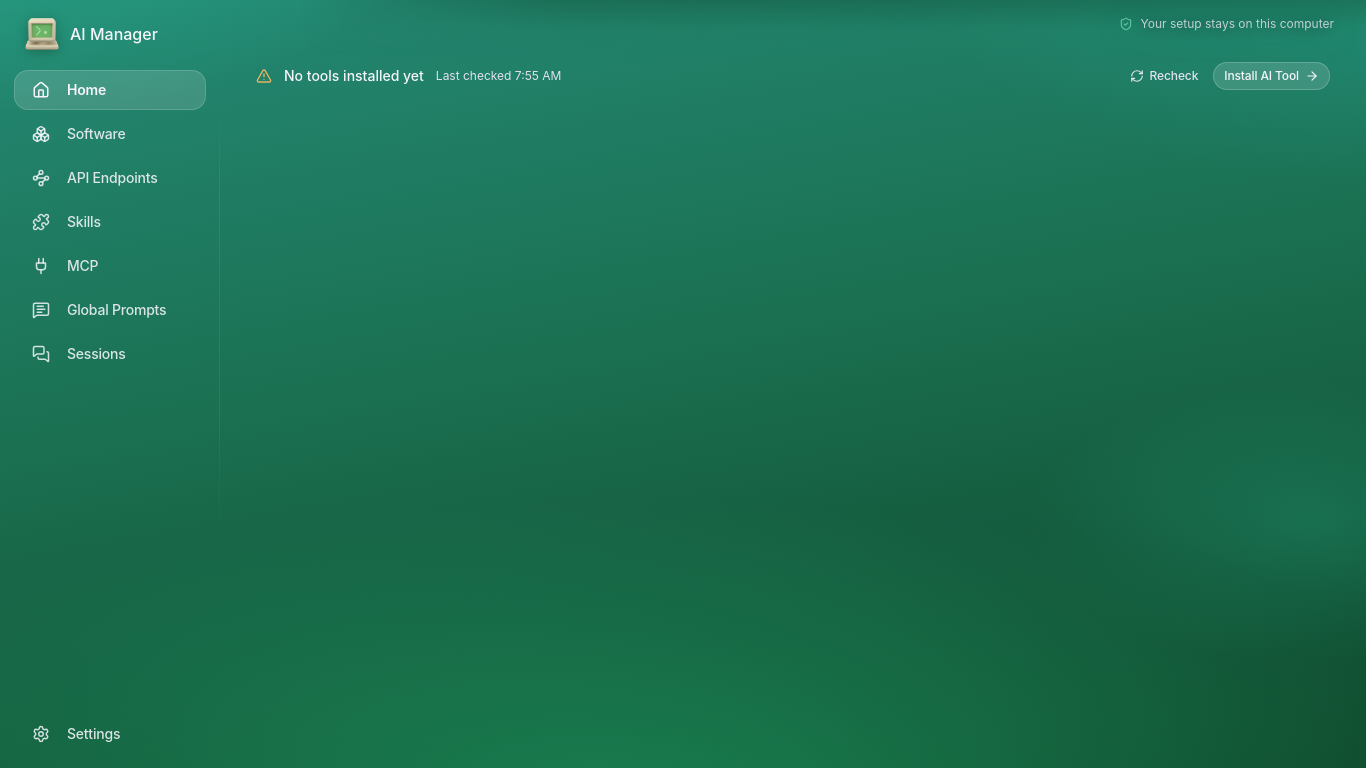
Scenario: AppShell › renders the real Extensions page instead of a placeholder
What coordinates should you click on to do the following:
click the button "Skills"
I would click on:
 (110, 222)
Its box is x1=14 y1=202 x2=206 y2=242.
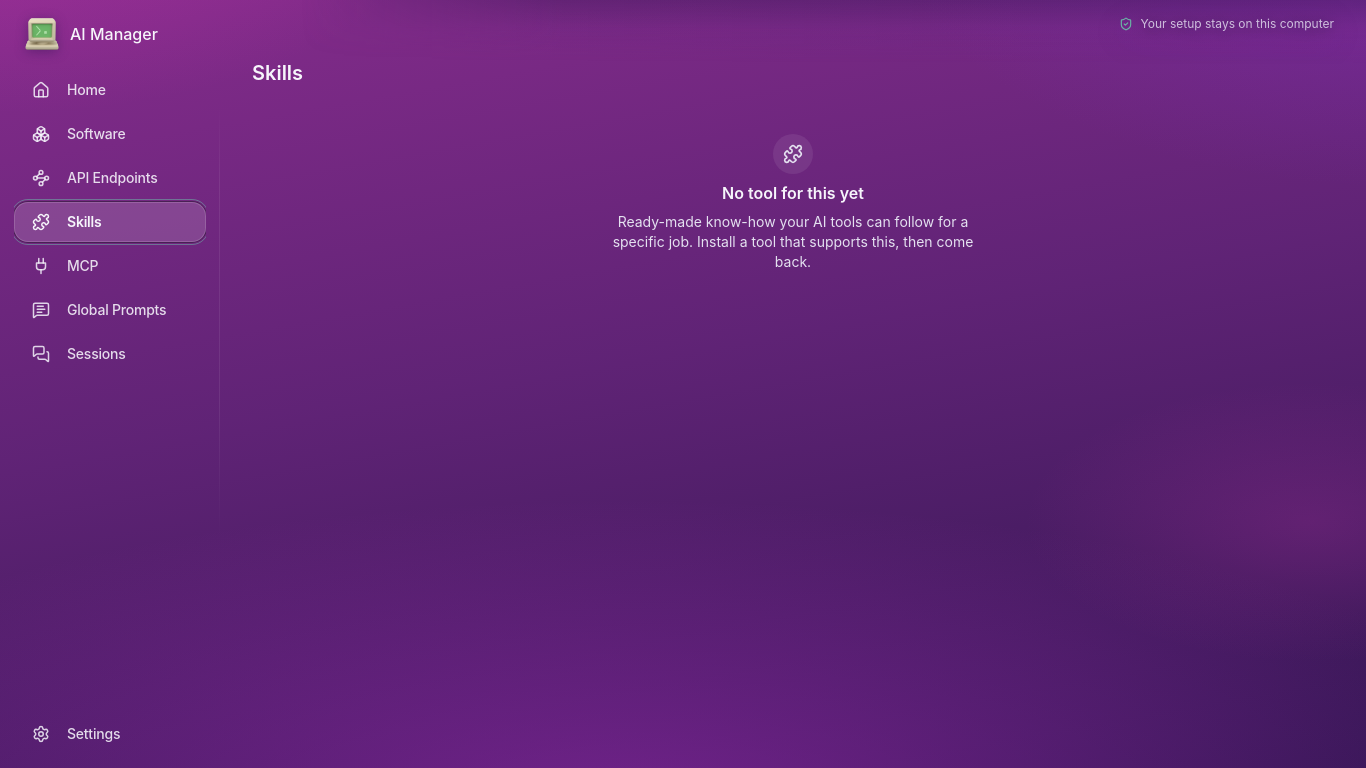
Now the heading "Skills" is shown, box x1=252 y1=60 x2=303 y2=86
